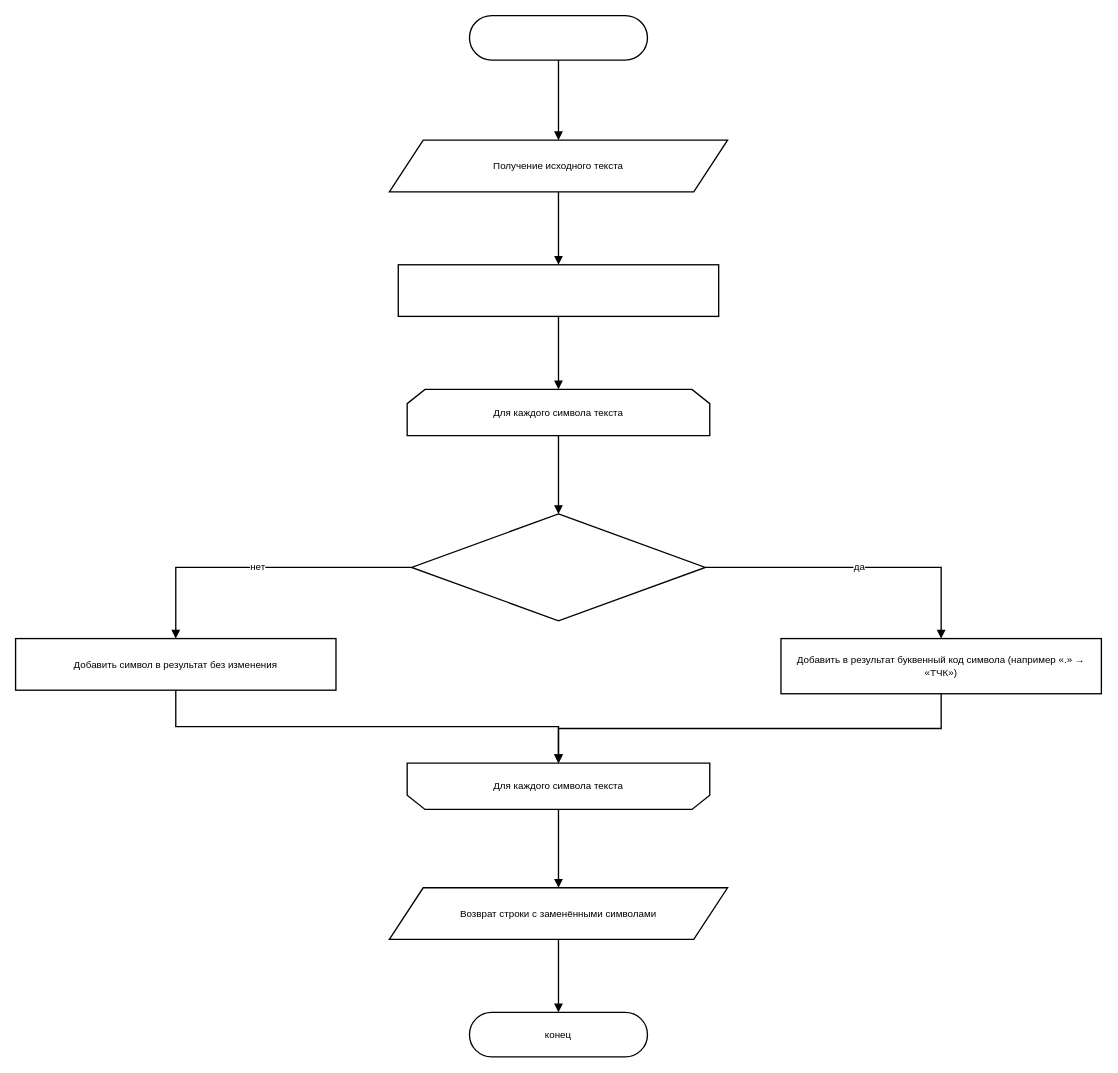
This 1118x1073 diagram has some shape labels left out. Here are the shapes that lost their labels. From the top down, the box of each, then its label:
(468, 15, 648, 60): начало
(397, 264, 719, 317): Создание пустой строки для результата
(411, 513, 706, 621): Символ есть в таблице замен?
